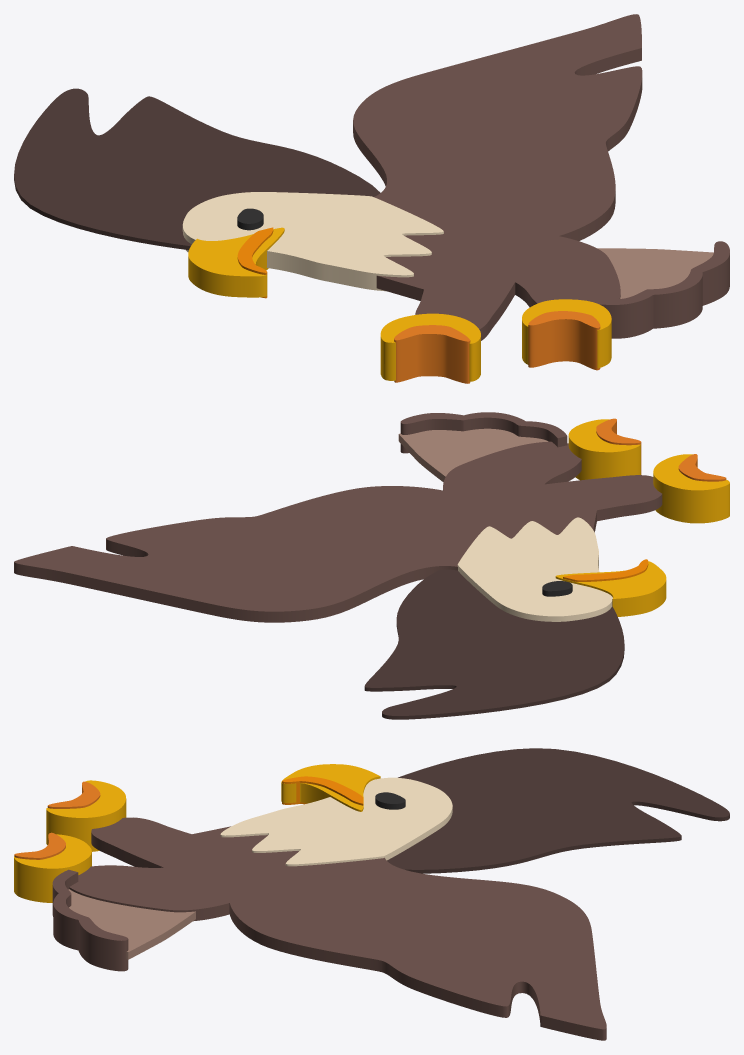
Rendered from emoji_u1f985.glb.
The picture shows the model from 3 angles, top to bottom: view 1: azimuth 30°, elevation 25°; view 2: azimuth 150°, elevation 25°; view 3: azimuth 270°, elevation 25°; orthographic projection. The views are drawn at different scales.
Visible parts, largest first — view 1: emoji_u1f985; view 2: emoji_u1f985; view 3: emoji_u1f985.
Boxes of the visible parts, x1=… form: emoji_u1f985: x1=14, y1=14, x2=729, y2=383; emoji_u1f985: x1=14, y1=412, x2=729, y2=719; emoji_u1f985: x1=14, y1=748, x2=729, y2=1040.
Bounding box in the file's own units: 0.032 × 0.002 × 0.034.
